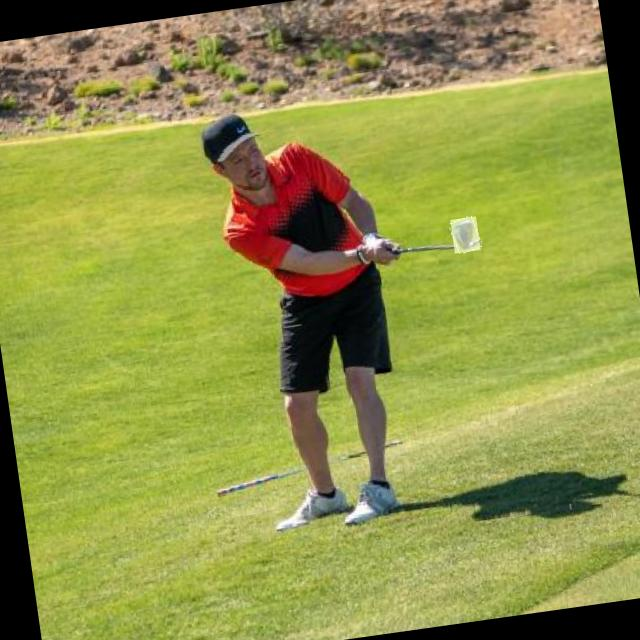club head: (450, 216, 481, 254)
